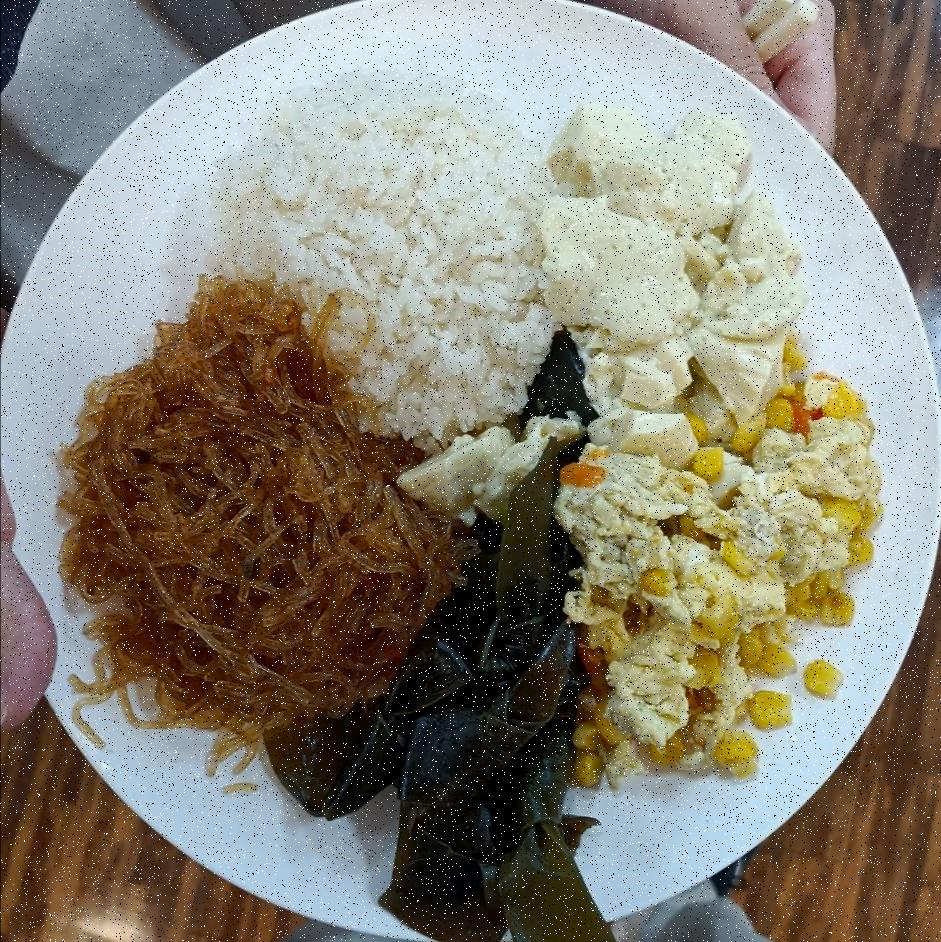plate: (0, 6, 937, 942)
side dish: (273, 336, 604, 942), (48, 271, 452, 740), (560, 346, 880, 788), (536, 96, 806, 458)
white rice: (214, 68, 566, 442)
